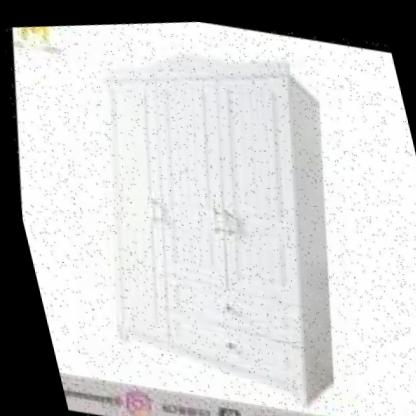Closet: (28, 2, 399, 416)
